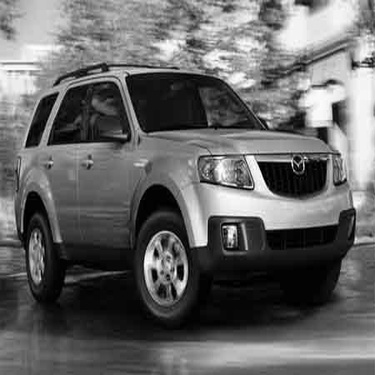car: (4, 44, 360, 327)
